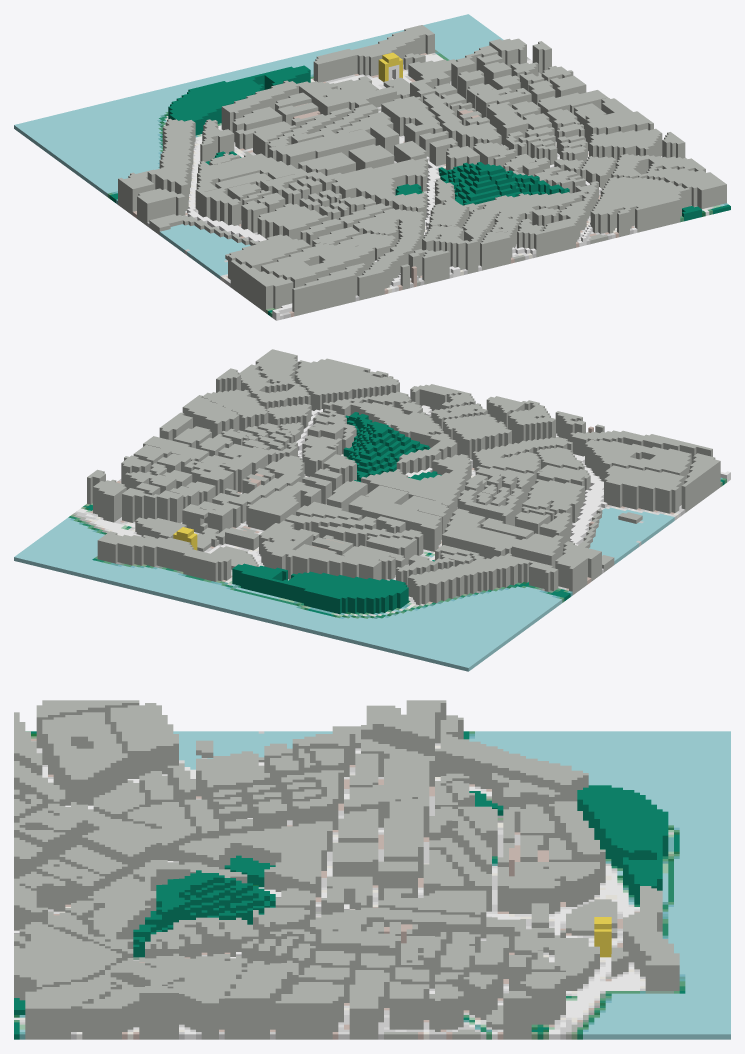
File: 210508macau-11.obj
The picture shows the model from 3 angles, top to bottom: view 1: azimuth 30°, elevation 25°; view 2: azimuth 150°, elevation 25°; view 3: azimuth 270°, elevation 25°; orthographic projection. The views are drawn at different scales.
Bounding box in the file's own units: 12.6 × 0.9 × 12.6.
1 material, 1 textured.
